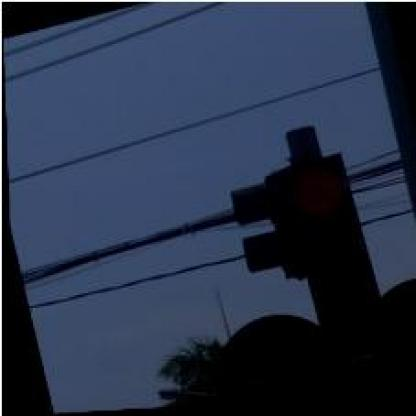red: (275, 152, 388, 361)
